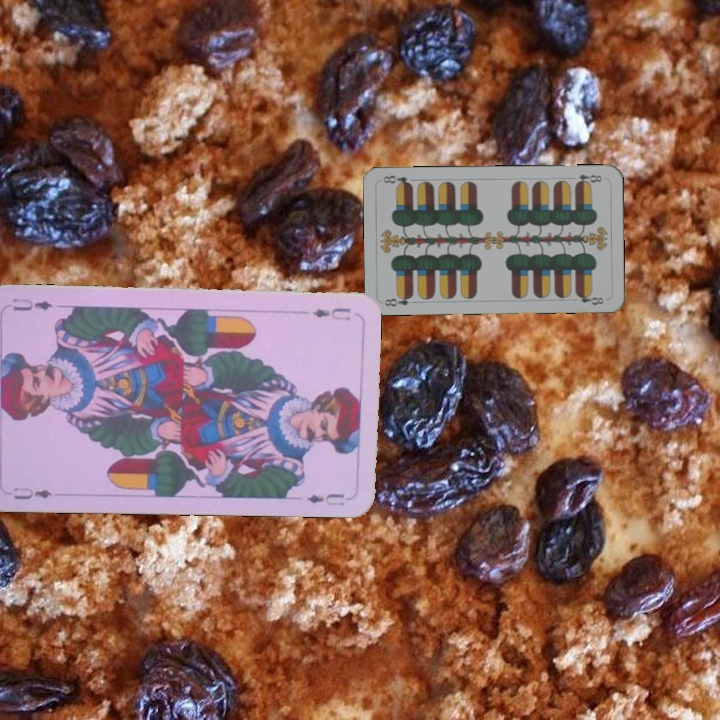E8: (381, 291, 416, 309), (572, 170, 605, 187)
EU: (10, 483, 55, 502), (308, 304, 353, 323)
